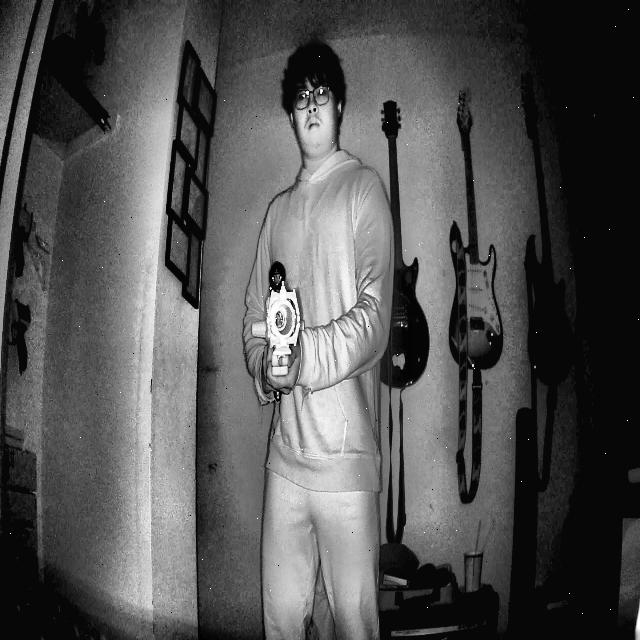Nerf_Blaster: (243, 237, 316, 417)
